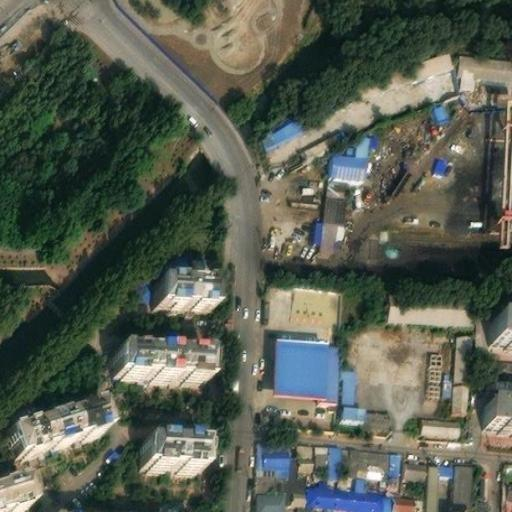building: (7, 398, 105, 455), (275, 332, 343, 398), (117, 337, 211, 372), (485, 114, 511, 236), (387, 286, 473, 316), (144, 429, 208, 462), (317, 178, 345, 249), (328, 128, 369, 175), (151, 277, 213, 308), (459, 47, 512, 83), (438, 457, 472, 512), (451, 327, 473, 410), (306, 481, 380, 503), (407, 43, 453, 75), (339, 363, 366, 416), (251, 436, 292, 468), (266, 117, 303, 151), (0, 474, 33, 512), (296, 130, 333, 160), (257, 485, 291, 512), (345, 444, 368, 482), (427, 347, 444, 392), (486, 398, 512, 426), (426, 457, 439, 512), (291, 437, 313, 468), (327, 438, 346, 472), (426, 100, 450, 126), (423, 413, 461, 429), (367, 445, 389, 471), (290, 468, 307, 501), (428, 154, 451, 178), (392, 492, 417, 511), (496, 308, 512, 336), (404, 456, 428, 474), (296, 184, 317, 204), (388, 445, 399, 483), (379, 483, 393, 512), (312, 438, 328, 460), (503, 475, 512, 492), (501, 500, 512, 512)
